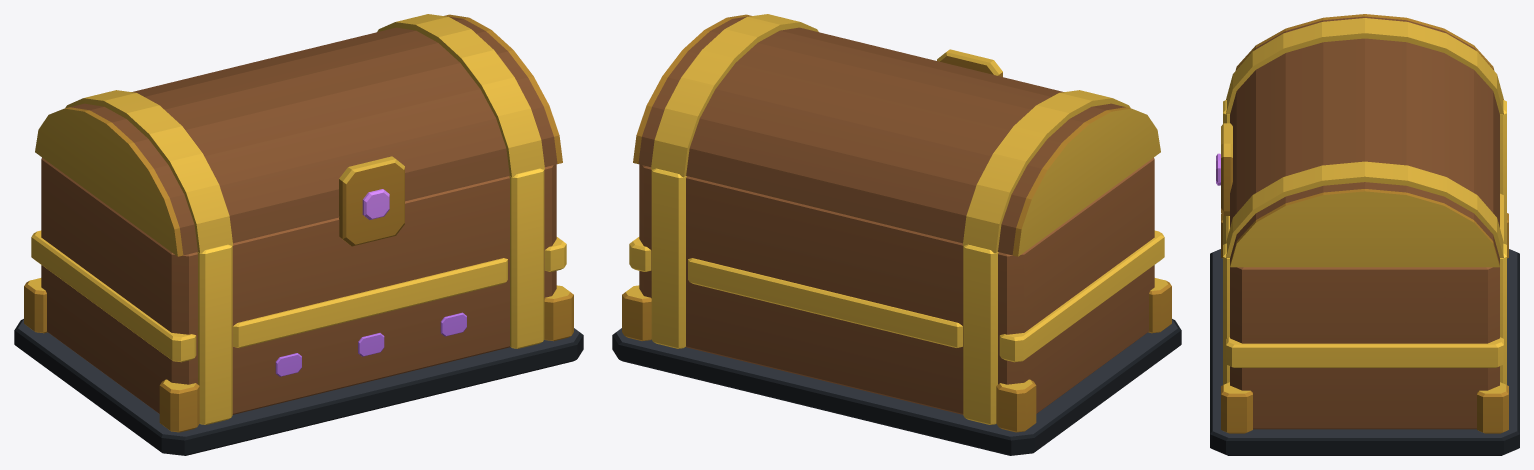
File: GuardChest.fbx
The picture shows the model from 3 angles, left to right: view 1: azimuth 30°, elevation 25°; view 2: azimuth 150°, elevation 25°; view 3: azimuth 270°, elevation 25°; orthographic projection. The views are drawn at different scales.
Parts seen in each view (by area): view 1: Lid, Box, Bands, Plinth, Runes, LockGlow; view 2: Lid, Box, Bands, Plinth; view 3: Lid, Box, Bands, Plinth.
Boxes of the visible parts, x1,y1,x2,y2 form: Lid: (35,14,562,256); Box: (41,157,556,414); Bands: (24,168,573,432); Plinth: (14,319,583,455); Runes: (275,312,466,376); LockGlow: (362,189,389,219); Lid: (633,14,1160,256); Box: (639,157,1154,414); Bands: (622,168,1171,432); Plinth: (612,319,1181,455); Lid: (1221,14,1503,267); Box: (1230,267,1499,429); Bands: (1221,100,1508,433); Plinth: (1210,249,1519,455).
Bounding box in the file's own units: 2.3 × 1.45 × 1.55.
Materials: 2 (2 with a texture image).
